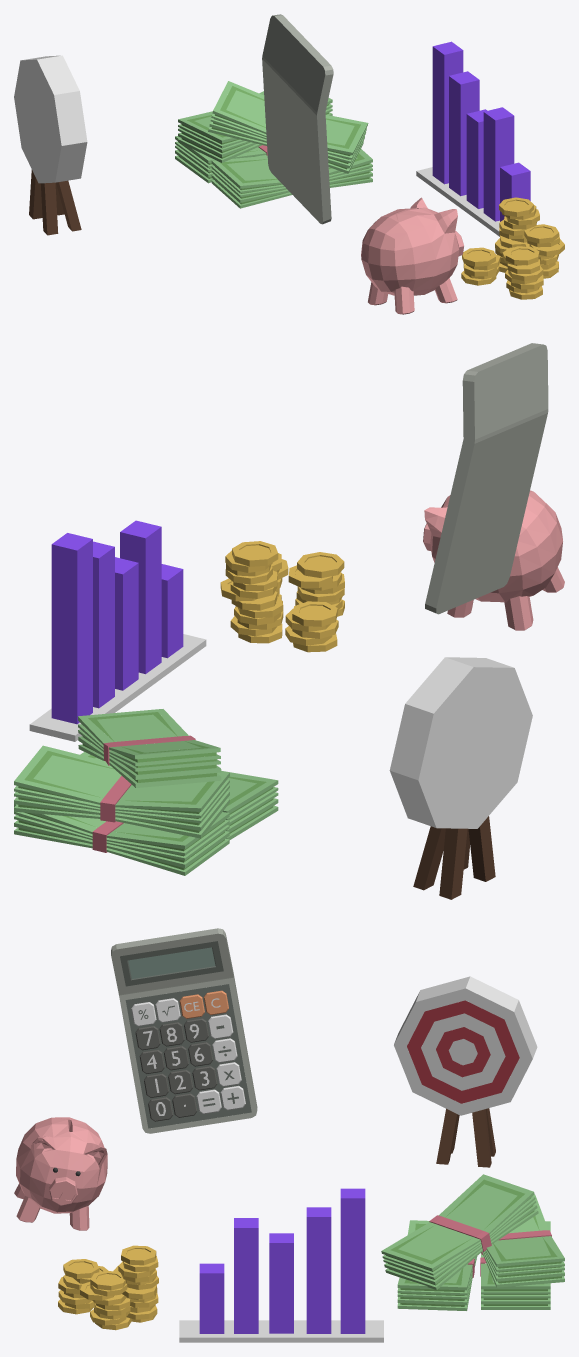
The picture shows the model from 3 angles, top to bottom: view 1: azimuth 30°, elevation 25°; view 2: azimuth 150°, elevation 25°; view 3: azimuth 270°, elevation 25°; orthographic projection. The views are drawn at different scales.
Visible parts, largest first — view 1: graph.007, Cash, calculator, Target.005, pig, Coin_Pile; view 2: Cash, graph.007, Target.005, calculator, Coin_Pile, pig; view 3: calculator, Cash, graph.007, Target.005, pig, Coin_Pile.
Boxes of the visible parts, box(x1,y1,x2,y2) form: graph.007: box(416, 41, 530, 236); Cash: box(175, 81, 372, 208); calculator: box(262, 14, 333, 224); Target.005: box(14, 55, 87, 235); pig: box(361, 197, 463, 314); Coin_Pile: box(461, 197, 564, 299); Cash: box(14, 709, 278, 875); graph.007: box(29, 520, 206, 741); Target.005: box(389, 657, 532, 899); calculator: box(425, 343, 548, 614); Coin_Pile: box(220, 541, 344, 652); pig: box(423, 490, 564, 630); calculator: box(111, 928, 257, 1133); Cash: box(381, 1174, 564, 1310); graph.007: box(179, 1188, 383, 1342); Target.005: box(394, 976, 537, 1167); pig: box(14, 1117, 107, 1230); Coin_Pile: box(58, 1245, 158, 1330).
Size of the model in its own units: 4.37 by 2.99 by 5.22.
